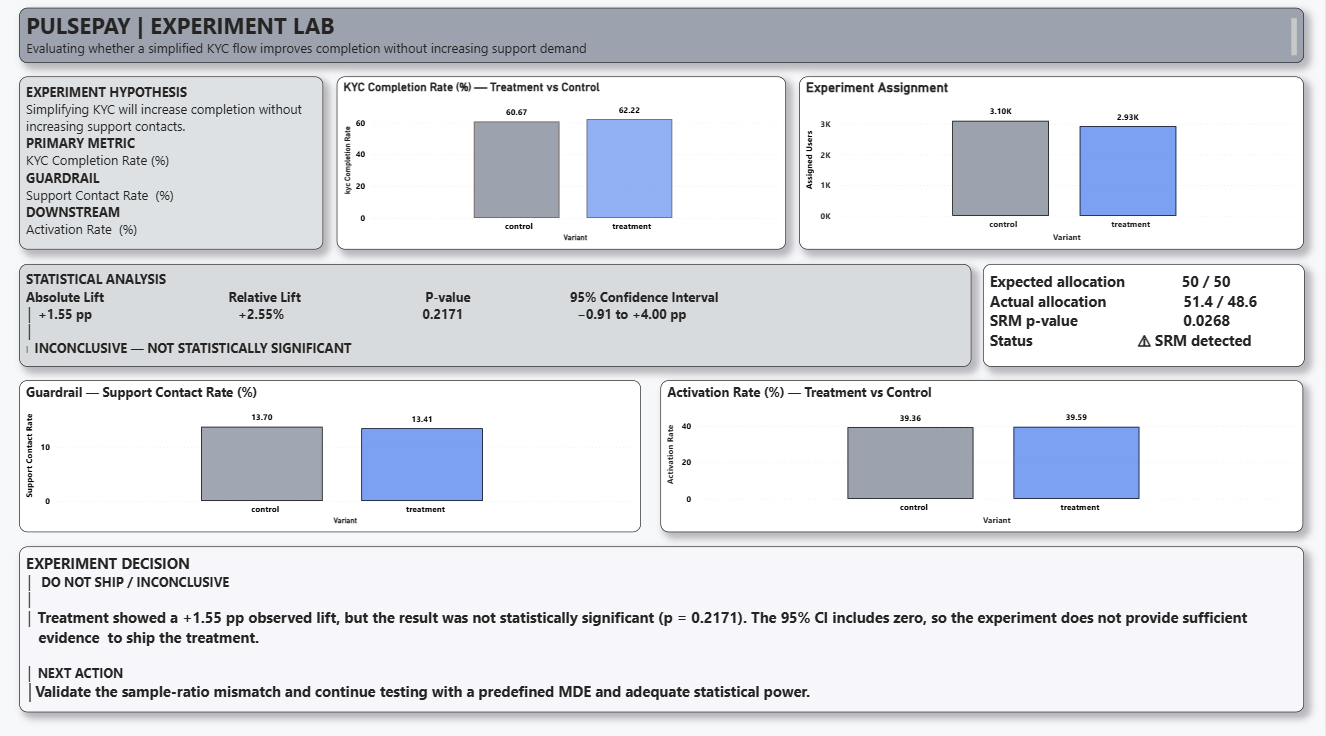

What the dashboard file says about the page in this screenshot:
{"tool":"powerbi","page":{"name":"04-PulsePay-Experiment-Lab.pbix","canvas":[1920,1080],"ordinal":3},"visuals":[{"type":"textbox","box":[30,20,1860,80],"z":0},{"type":"clusteredColumnChart","title":"Experiment Assignment","fields":{"Category":["pulsepay_analytics vw_experiment_scorecard.variant"],"Y":["Sum(pulsepay_analytics vw_experiment_scorecard.assigned_users)"]},"box":[1160,120,730,250],"z":1000},{"type":"clusteredColumnChart","title":"KYC Completion Rate (%) — Treatment vs Control","fields":{"Category":["pulsepay_analytics vw_experiment_scorecard.variant"],"Y":["Sum(pulsepay_analytics vw_experiment_scorecard.kyc_completion_rate_pct)"]},"box":[490,120,650,250],"z":2000},{"type":"clusteredColumnChart","title":"Guardrail — Support Contact Rate (%)","fields":{"Category":["pulsepay_analytics vw_experiment_scorecard.variant"],"Y":["Sum(pulsepay_analytics vw_experiment_scorecard.support_contact_rate_pct)"]},"box":[30,560,900,220],"z":3000},{"type":"clusteredColumnChart","title":"Activation Rate (%) — Treatment vs Control","fields":{"Category":["pulsepay_analytics vw_experiment_scorecard.variant"],"Y":["Sum(pulsepay_analytics vw_experiment_scorecard.activation_rate_pct)"]},"box":[960,560,930,220],"z":4000},{"type":"textbox","box":[30,120,440,250],"z":5000},{"type":"textbox","box":[30.9,390.9,1378.2,149.1],"z":6000},{"type":"textbox","box":[30,800,1860,240],"z":7000},{"type":"textbox","box":[1425.5,390.9,465.5,149.1],"z":8000}]}

Visuals, with their boxes in screenshot pixels (x1, y1, x2, y2), scaled from the page's 1920x1080 canvas onto the 1326x736 screenshot:
textbox: pyautogui.locateOnScreen(21, 14, 1305, 68)
"Experiment Assignment" clusteredColumnChart: pyautogui.locateOnScreen(801, 82, 1305, 252)
"KYC Completion Rate (%) — Treatment vs Control" clusteredColumnChart: pyautogui.locateOnScreen(338, 82, 787, 252)
"Guardrail — Support Contact Rate (%)" clusteredColumnChart: pyautogui.locateOnScreen(21, 382, 642, 532)
"Activation Rate (%) — Treatment vs Control" clusteredColumnChart: pyautogui.locateOnScreen(663, 382, 1305, 532)
textbox: pyautogui.locateOnScreen(21, 82, 325, 252)
textbox: pyautogui.locateOnScreen(21, 266, 973, 368)
textbox: pyautogui.locateOnScreen(21, 545, 1305, 709)
textbox: pyautogui.locateOnScreen(984, 266, 1306, 368)
